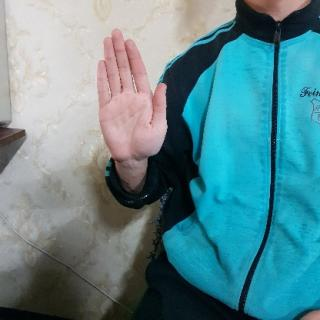SEEN: (91, 26, 176, 168)
